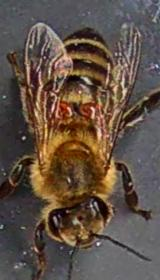varroa_mite: (72, 96, 108, 124), (46, 94, 76, 126)
